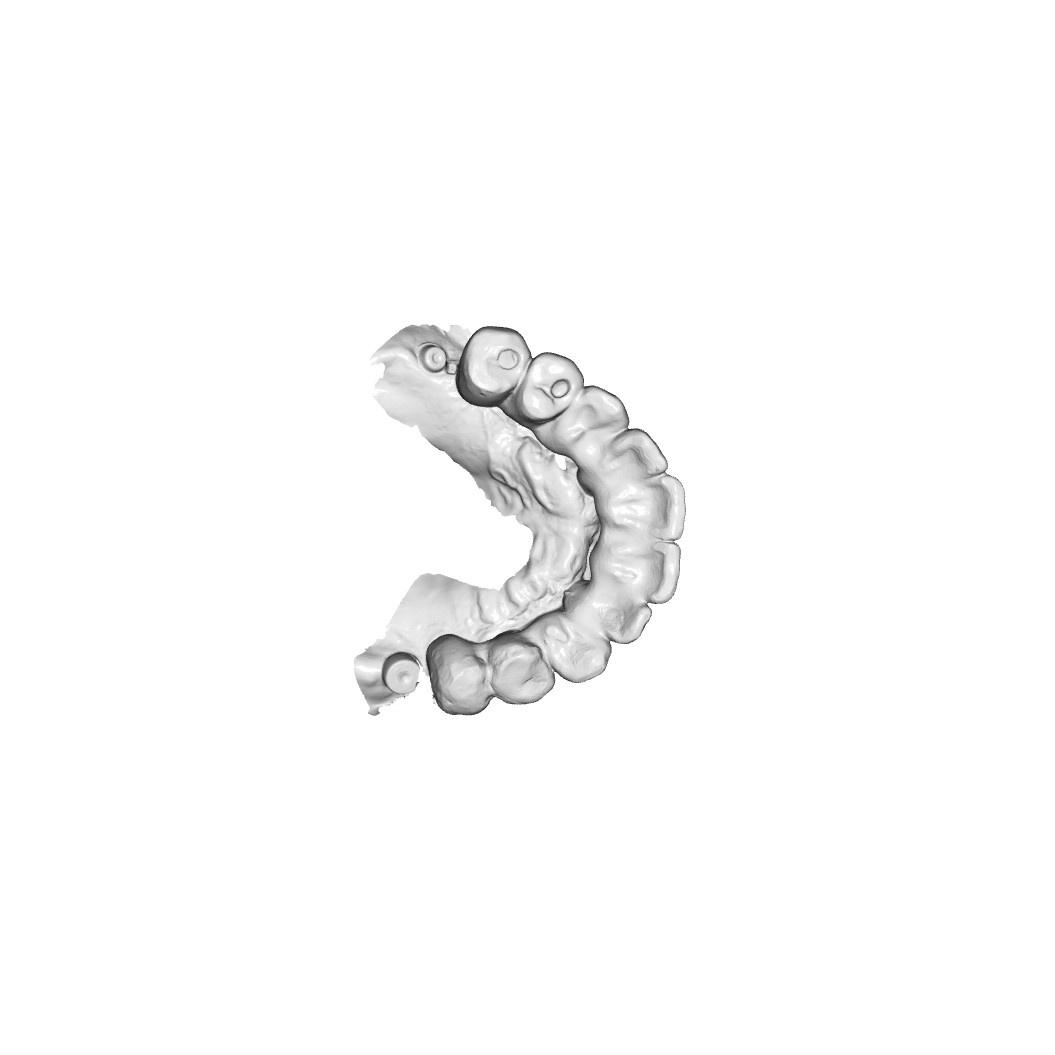canine: (543, 617, 613, 685), (565, 382, 630, 444)
implant: (381, 651, 422, 697), (417, 341, 448, 374)
incisor: (627, 469, 689, 544), (626, 536, 682, 606), (602, 428, 670, 483), (599, 594, 652, 647)
premolar: (456, 323, 527, 405), (489, 637, 558, 707), (433, 642, 495, 718), (518, 347, 580, 421)
